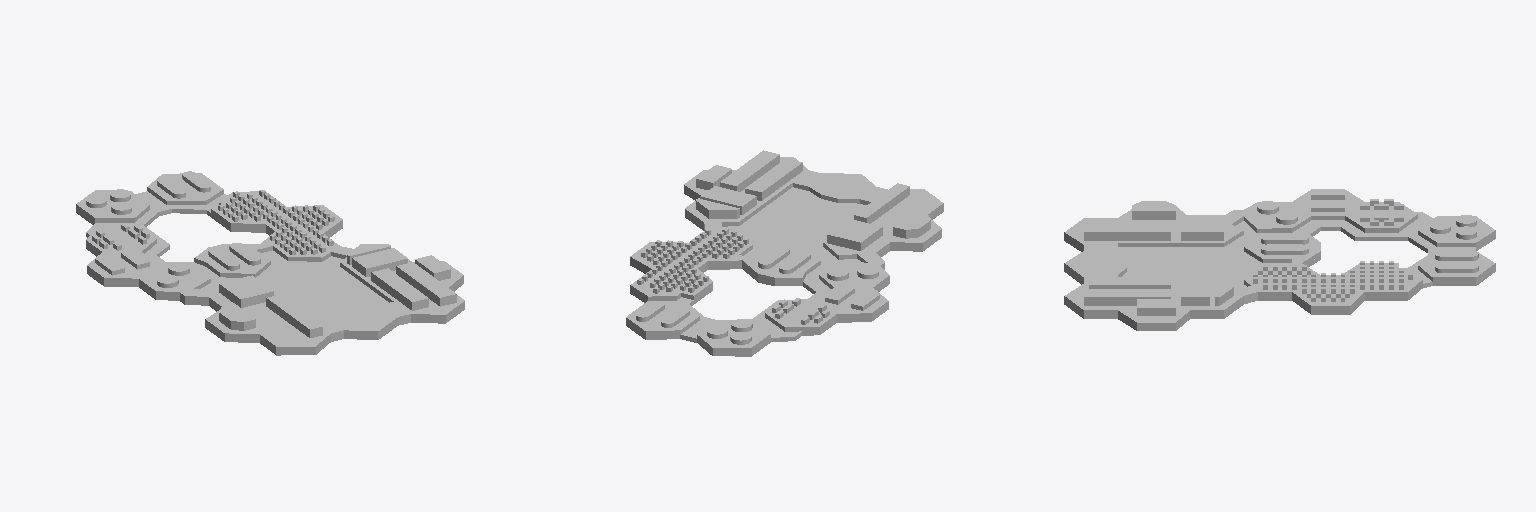
The model's file is zh_three.obj.
3 renders of one model, left to right at view 1: azimuth 30°, elevation 25°; view 2: azimuth 150°, elevation 25°; view 3: azimuth 270°, elevation 25°, orthographic.
Visible parts, largest first — view 1: ____01, ____01__2_; view 2: ____01, ____01__2_; view 3: ____01, ____01__2_.
Boxes of the visible parts, box(x1,y1,x2,y2) form: ____01: box(76, 171, 464, 355); ____01__2_: box(81, 192, 463, 355); ____01: box(626, 150, 943, 356); ____01__2_: box(629, 187, 943, 356); ____01: box(1064, 189, 1495, 330); ____01__2_: box(1064, 212, 1495, 329).
Bounding box in the file's own units: 2.27 × 0.14 × 3.12.